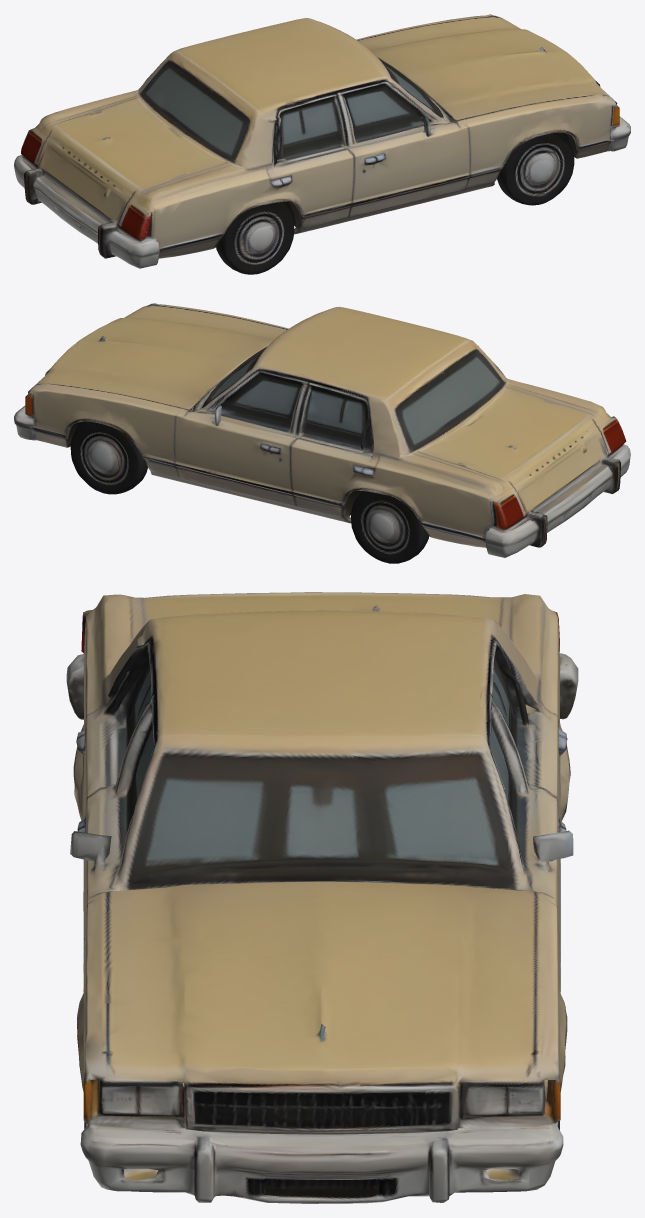
Rendered from model_pbr.glb.
3 views of the same model, one above another, from view 1: azimuth 30°, elevation 25°; view 2: azimuth 150°, elevation 25°; view 3: azimuth 270°, elevation 25° (orthographic). The views are drawn at different scales.
Parts seen in each view (by area): view 1: tripo_node_4a4c65e0-4e61-42f5-8e39-b389602a00a0; view 2: tripo_node_4a4c65e0-4e61-42f5-8e39-b389602a00a0; view 3: tripo_node_4a4c65e0-4e61-42f5-8e39-b389602a00a0.
Boxes of the visible parts, x1,y1,x2,y2 form: tripo_node_4a4c65e0-4e61-42f5-8e39-b389602a00a0: (14, 14, 630, 274); tripo_node_4a4c65e0-4e61-42f5-8e39-b389602a00a0: (14, 303, 630, 563); tripo_node_4a4c65e0-4e61-42f5-8e39-b389602a00a0: (66, 592, 578, 1203).
Size of the model in its own units: 0.9997 by 0.2872 by 0.4233.
Materials: 1 (1 with a texture image).
